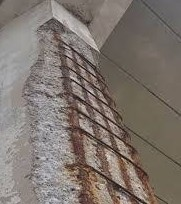Exposed reinforcement: (93, 69, 159, 204), (80, 58, 137, 204), (71, 49, 120, 204), (53, 31, 95, 204), (65, 125, 149, 178), (57, 91, 132, 141), (64, 162, 148, 204), (58, 76, 123, 123), (54, 65, 117, 108), (53, 36, 106, 83), (62, 53, 110, 90)
Spalling: (20, 17, 159, 204)
